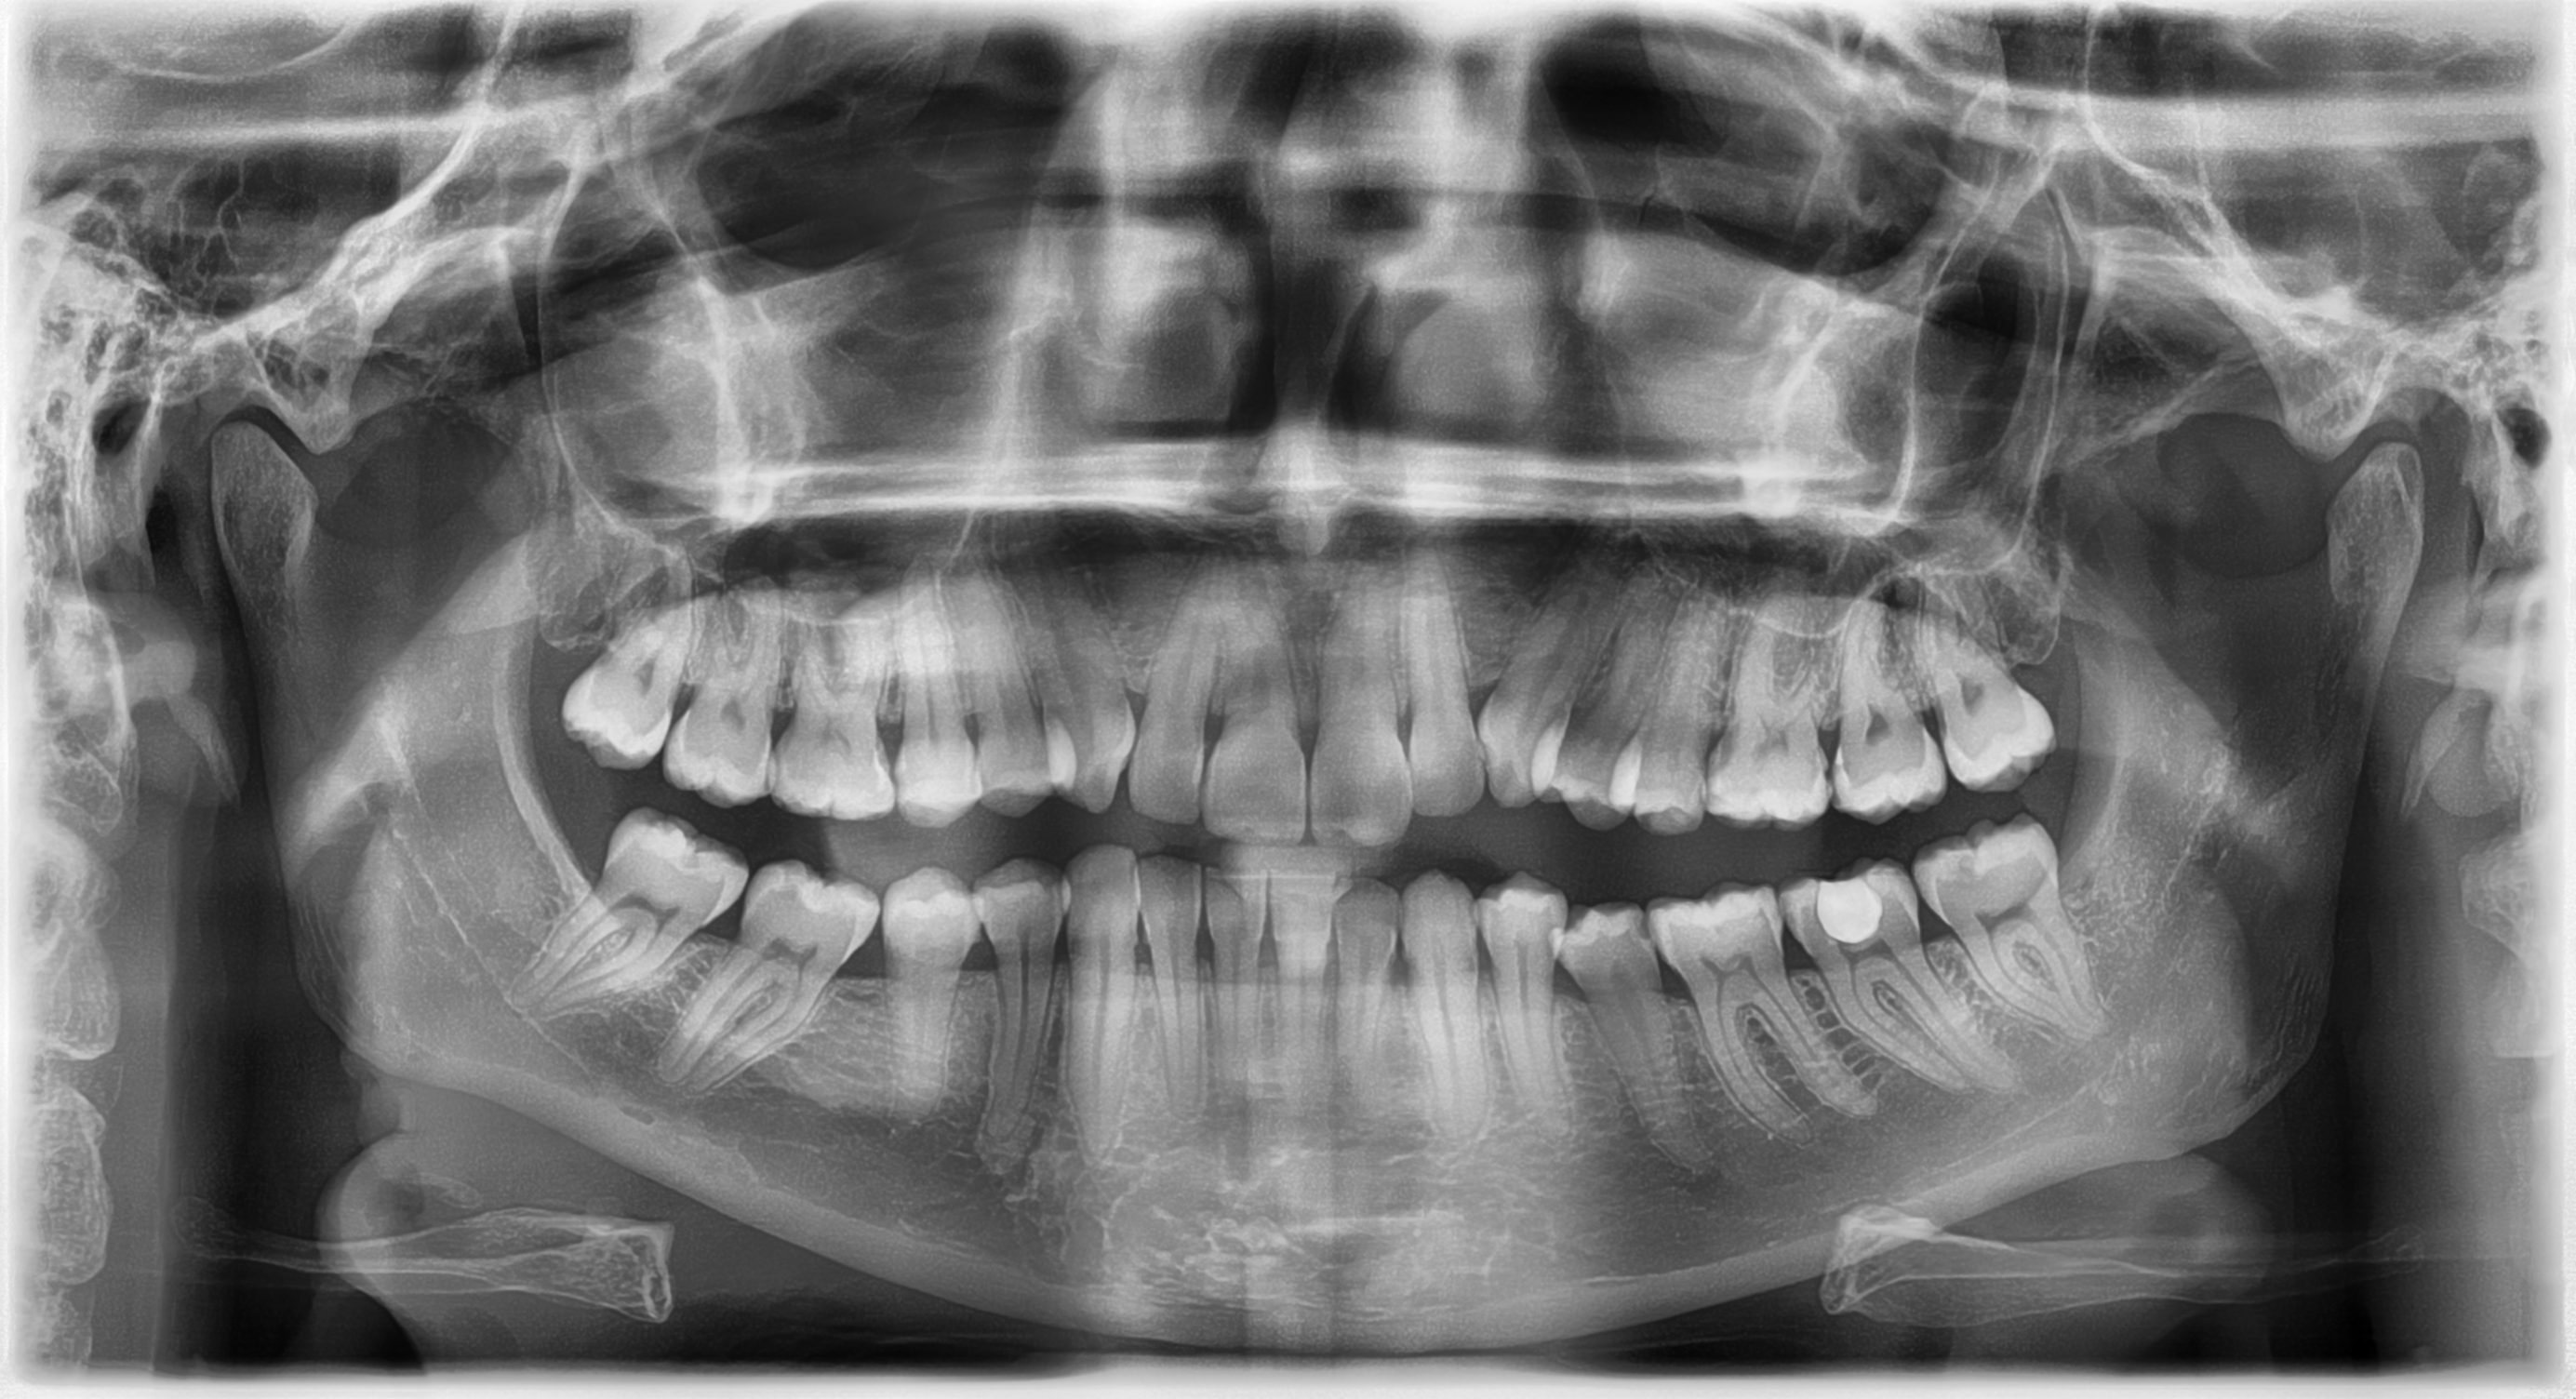apinamiento: (1475, 699, 1723, 843), (949, 715, 1137, 815)
cordal: (1895, 799, 2118, 1061), (1897, 560, 2090, 799), (538, 522, 706, 789)
